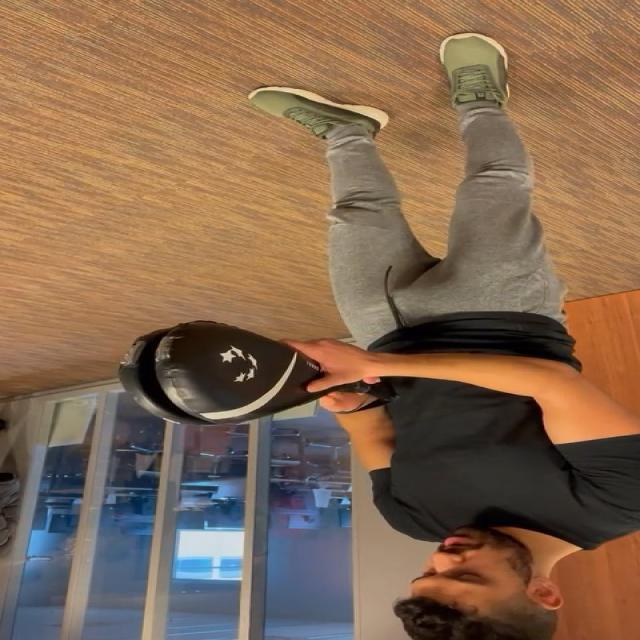paddle: (124, 328, 306, 423)
